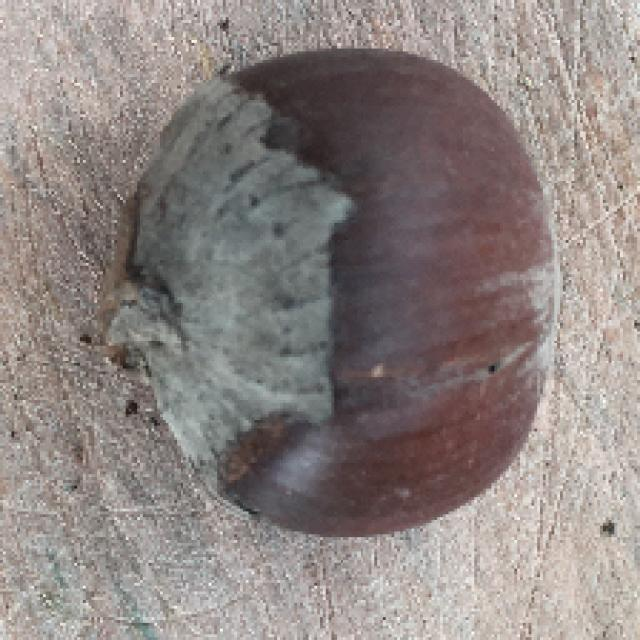damagedHazelnut: (114, 44, 567, 544)
